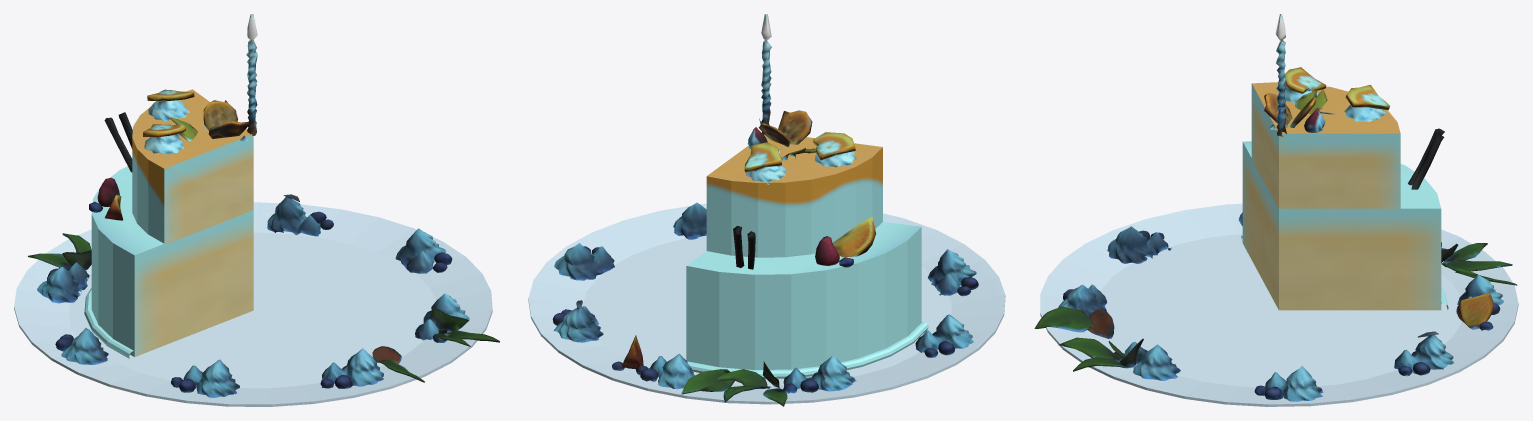
Rendered from denia_cake_5.obj.
3 views of the same model, side by side, from view 1: azimuth 30°, elevation 25°; view 2: azimuth 150°, elevation 25°; view 3: azimuth 270°, elevation 25° (orthographic).
Parts seen in each view (by area): view 1: cake; view 2: cake; view 3: cake.
Boxes of the visible parts, x1,y1,x2,y2 form: cake: (14, 14, 499, 406); cake: (528, 14, 1005, 406); cake: (1034, 14, 1518, 406).
Bounding box in the file's own units: 0.959 × 0.6594 × 0.9697.
